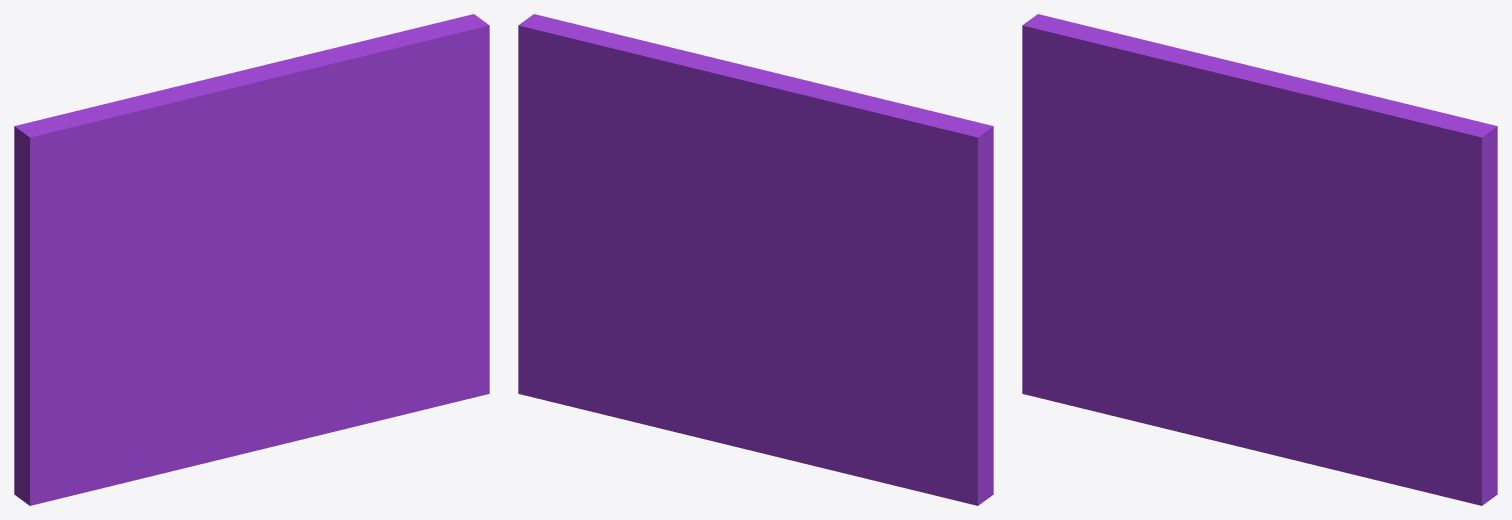
File: Barrier_158_chunks.fbx
3 views of the same model, side by side, from view 1: azimuth 30°, elevation 25°; view 2: azimuth 150°, elevation 25°; view 3: azimuth 330°, elevation 25° (orthographic).
Visible parts, largest first — view 1: Barrier_158_2, Barrier_158_0, Barrier_158_4, Barrier_158_1, Barrier_158_3, Barrier_158_6, Barrier_158_5; view 2: Barrier_158_1, Barrier_158_2, Barrier_158_4, Barrier_158_5, Barrier_158_6, Barrier_158_3, Barrier_158_0; view 3: Barrier_158_2, Barrier_158_0, Barrier_158_4, Barrier_158_3, Barrier_158_1, Barrier_158_6, Barrier_158_5.
Boxes of the visible parts, left/top/right/bottom form: Barrier_158_2: left=269, top=64, right=489, bottom=446; Barrier_158_0: left=23, top=249, right=272, bottom=505; Barrier_158_4: left=14, top=90, right=246, bottom=254; Barrier_158_1: left=14, top=171, right=173, bottom=500; Barrier_158_3: left=223, top=89, right=460, bottom=259; Barrier_158_6: left=161, top=43, right=415, bottom=157; Barrier_158_5: left=326, top=14, right=489, bottom=113; Barrier_158_1: left=741, top=182, right=993, bottom=505; Barrier_158_2: left=518, top=59, right=755, bottom=451; Barrier_158_4: left=754, top=94, right=993, bottom=247; Barrier_158_5: left=518, top=14, right=764, bottom=187; Barrier_158_6: left=608, top=32, right=860, bottom=140; Barrier_158_3: left=640, top=166, right=769, bottom=256; Barrier_158_0: left=755, top=390, right=993, bottom=498; Barrier_158_2: left=1262, top=160, right=1497, bottom=505; Barrier_158_0: left=1022, top=207, right=1264, bottom=452; Barrier_158_4: left=1022, top=14, right=1239, bottom=236; Barrier_158_3: left=1215, top=148, right=1452, bottom=264; Barrier_158_1: left=1022, top=91, right=1165, bottom=300; Barrier_158_6: left=1154, top=50, right=1408, bottom=151; Barrier_158_5: left=1322, top=90, right=1497, bottom=187.
Bounding box in the file's own units: 376 × 288 × 22.1.
